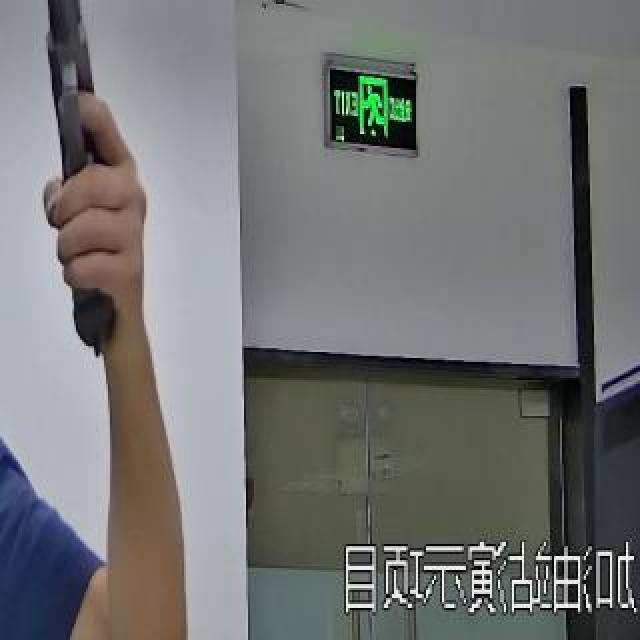Guns: (0, 0, 162, 374)
